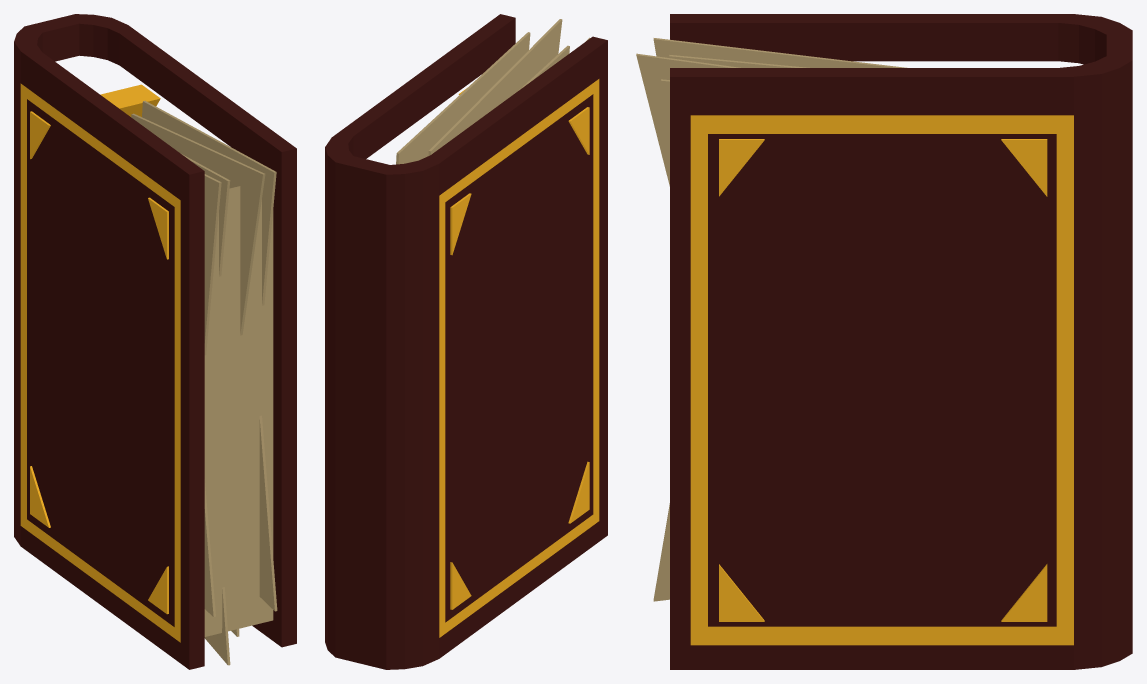
Rendered from book2_closed.glb.
3 views of the same model, side by side, from view 1: azimuth 30°, elevation 25°; view 2: azimuth 150°, elevation 25°; view 3: azimuth 270°, elevation 25° (orthographic). The views are drawn at different scales.
Parts seen in each view (by area): view 1: Book2_Closed; view 2: Book2_Closed; view 3: Book2_Closed.
Boxes of the visible parts, x1,y1,x2,y2 form: Book2_Closed: [14, 14, 296, 669]; Book2_Closed: [325, 14, 607, 669]; Book2_Closed: [636, 14, 1132, 669].
Size of the model in its own units: 18.64 by 80.2 by 59.93.
